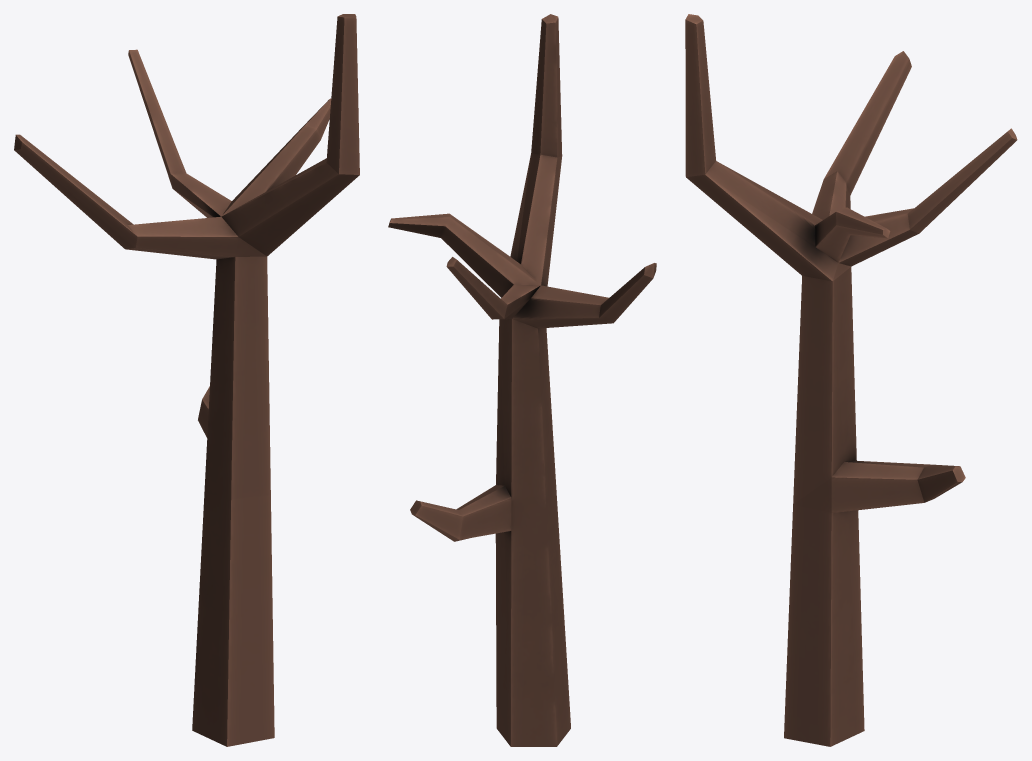
File: Tree_9.fbx
The picture shows the model from 3 angles, left to right: view 1: azimuth 30°, elevation 25°; view 2: azimuth 150°, elevation 25°; view 3: azimuth 270°, elevation 25°; orthographic projection. The views are drawn at different scales.
Parts seen in each view (by area): view 1: Tree_9; view 2: Tree_9; view 3: Tree_9.
Part boxes in pixels (bbox=[...]): Tree_9: bbox=[14, 14, 359, 746]; Tree_9: bbox=[388, 14, 656, 746]; Tree_9: bbox=[685, 14, 1017, 746].
Size of the model in its own units: 42.78 by 99.01 by 40.59.
